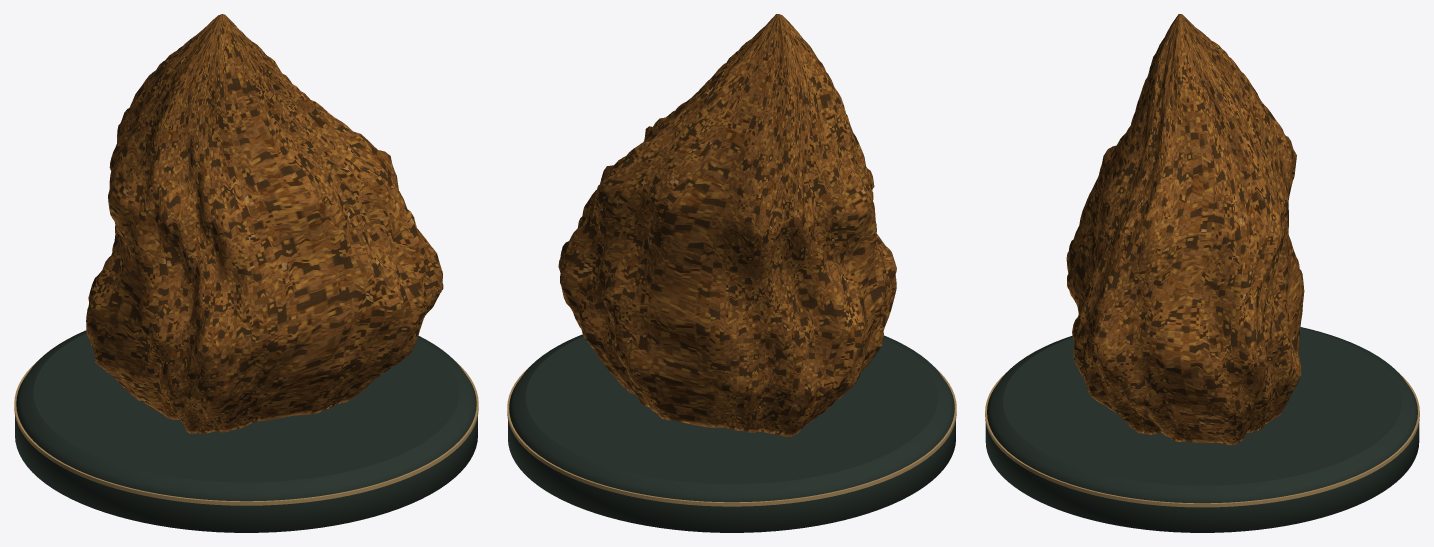
File: lingstone-concept-06-v191-7b3d203a8d0b.glb
3 views of the same model, side by side, from view 1: azimuth 30°, elevation 25°; view 2: azimuth 150°, elevation 25°; view 3: azimuth 270°, elevation 25° (orthographic). The views are drawn at different scales.
Parts seen in each view (by area): view 1: XY-CONCEPT-006 concept stone, Centered beveled display plinth, Champagne gold edge; view 2: XY-CONCEPT-006 concept stone, Centered beveled display plinth, Champagne gold edge; view 3: XY-CONCEPT-006 concept stone, Centered beveled display plinth, Champagne gold edge.
Boxes of the visible parts, x1,y1,x2,y2 form: XY-CONCEPT-006 concept stone: (86, 14, 443, 433); Centered beveled display plinth: (15, 330, 477, 532); Champagne gold edge: (14, 362, 478, 505); XY-CONCEPT-006 concept stone: (558, 14, 896, 436); Centered beveled display plinth: (508, 334, 955, 532); Champagne gold edge: (507, 367, 956, 506); XY-CONCEPT-006 concept stone: (1066, 14, 1304, 445); Centered beveled display plinth: (985, 327, 1419, 532); Champagne gold edge: (985, 372, 1419, 507).
Size of the model in its own units: 1.73 by 1.82 by 1.73.
Materials: 3 (1 with a texture image).
